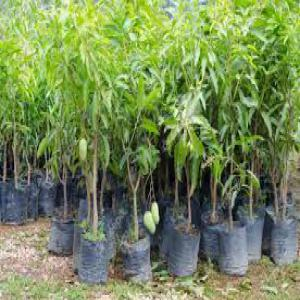Tree: (6, 6, 294, 286)
